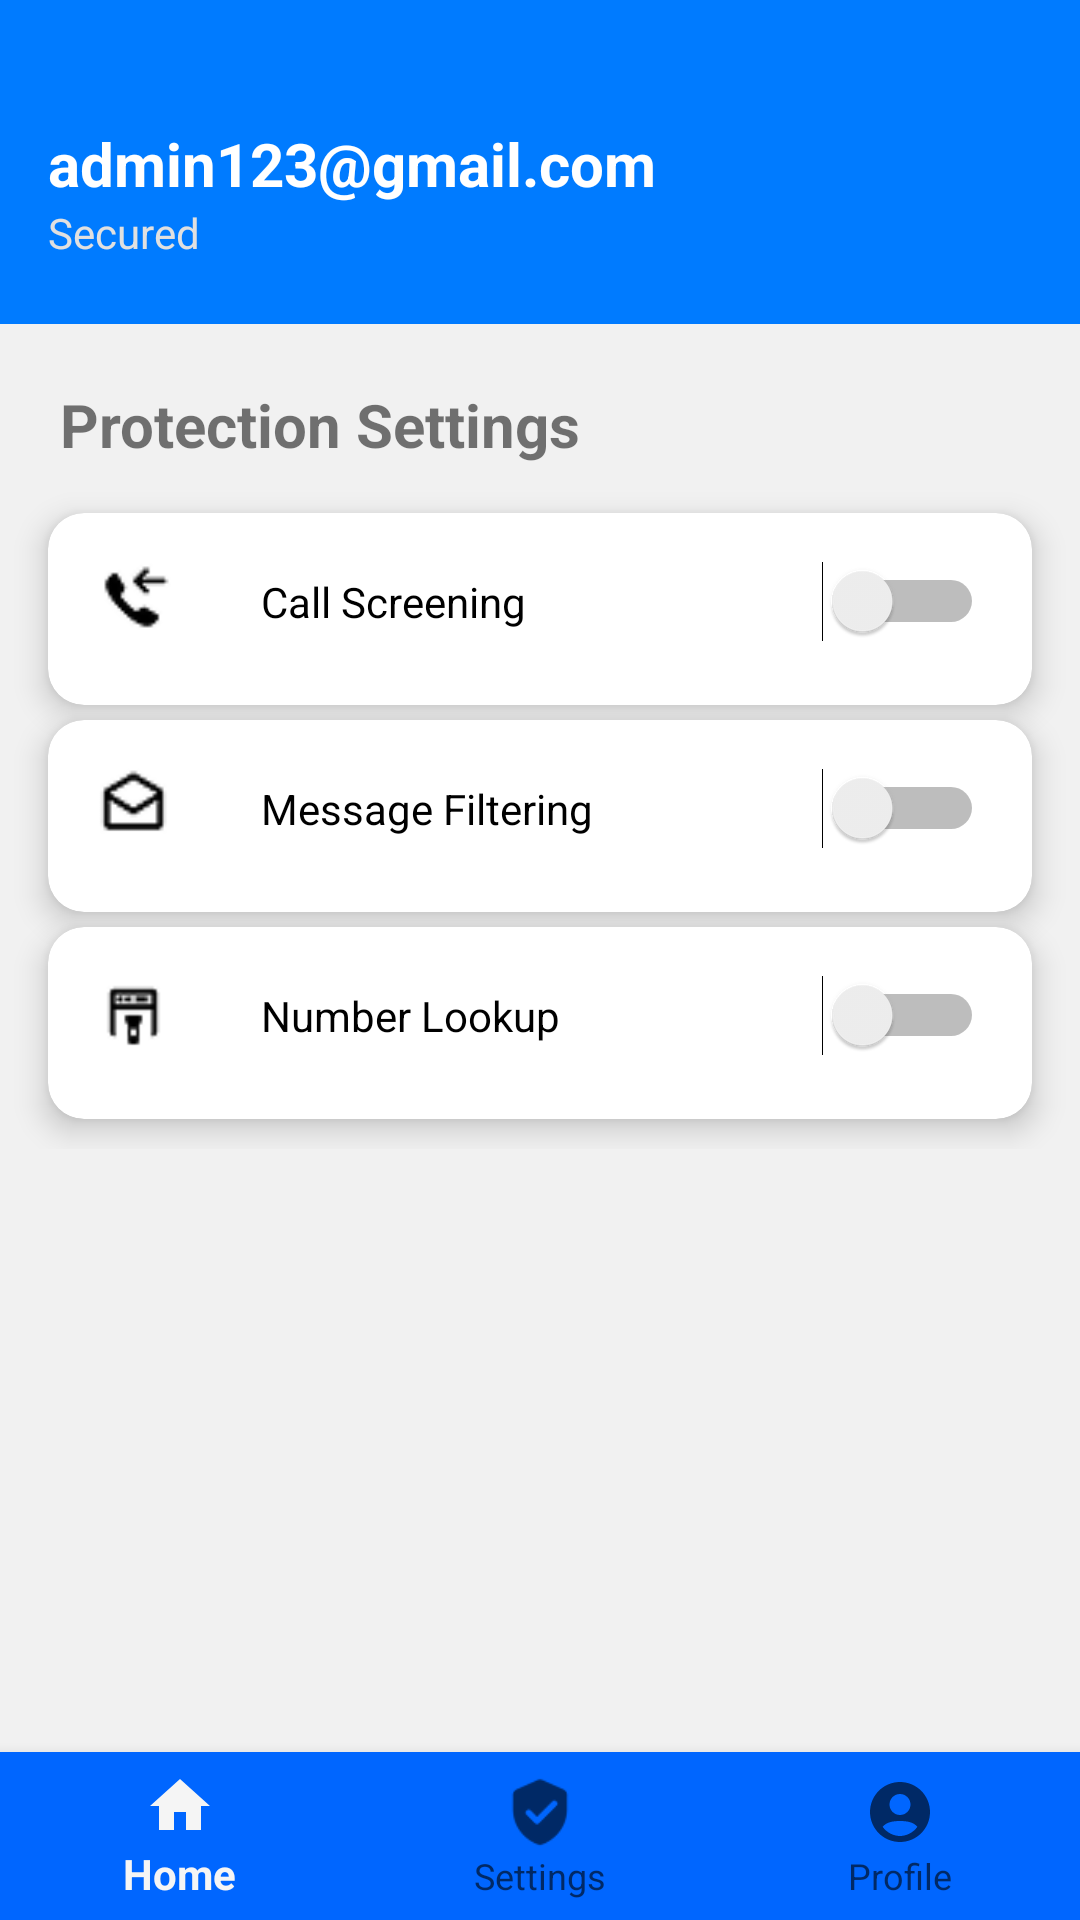

Icon click points for this 1080 × 1920 phone screenshot, format [x,y]:
incoming call: [136,597]
open envelope: [133,801]
